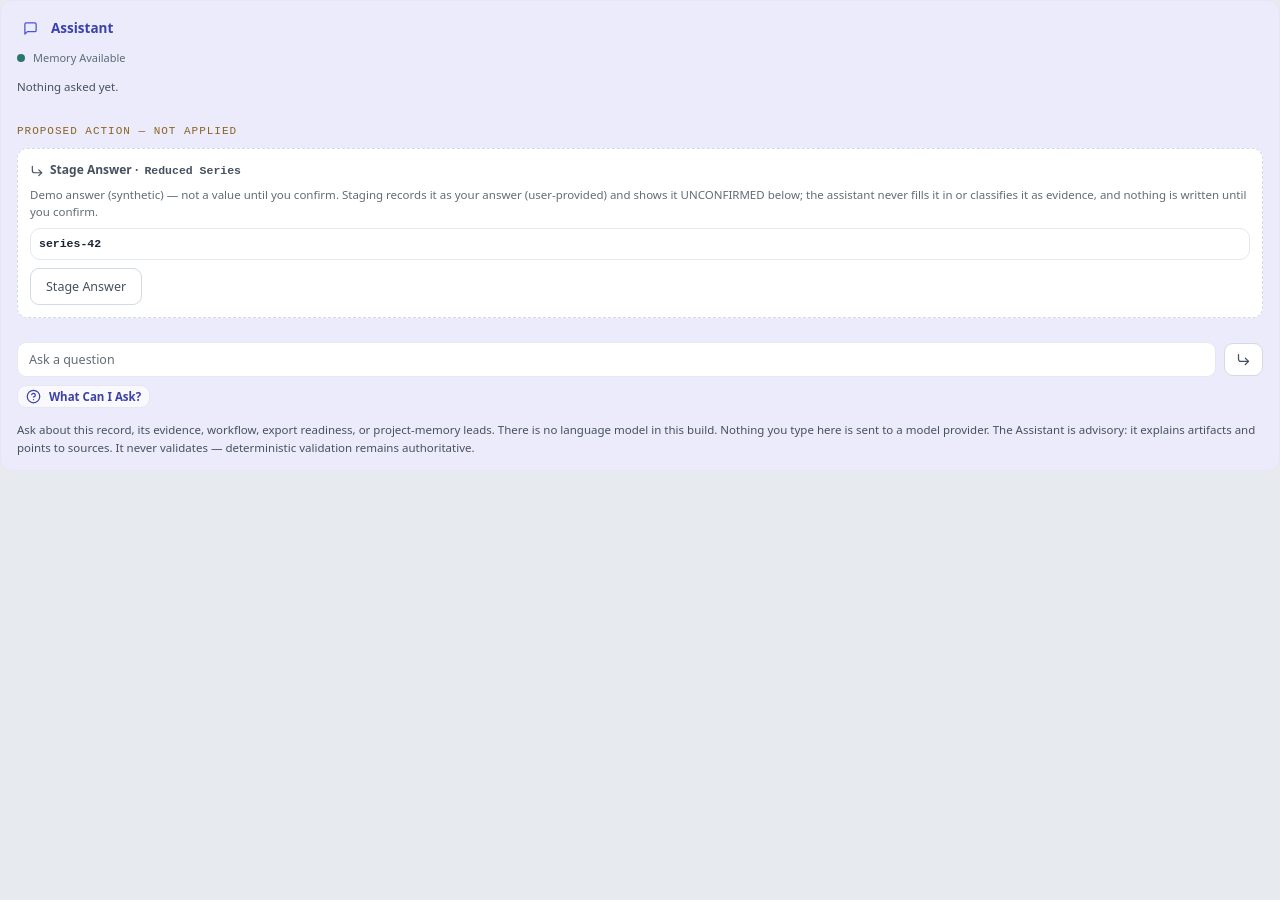
P36V S-A · Clear Conversation › a StageAnswer affordance is also cleared, and re-staging is still possible afterwards
The image size is (1280, 900).
In the field: x=616, y=360 [17,342,1216,377], type "q one"
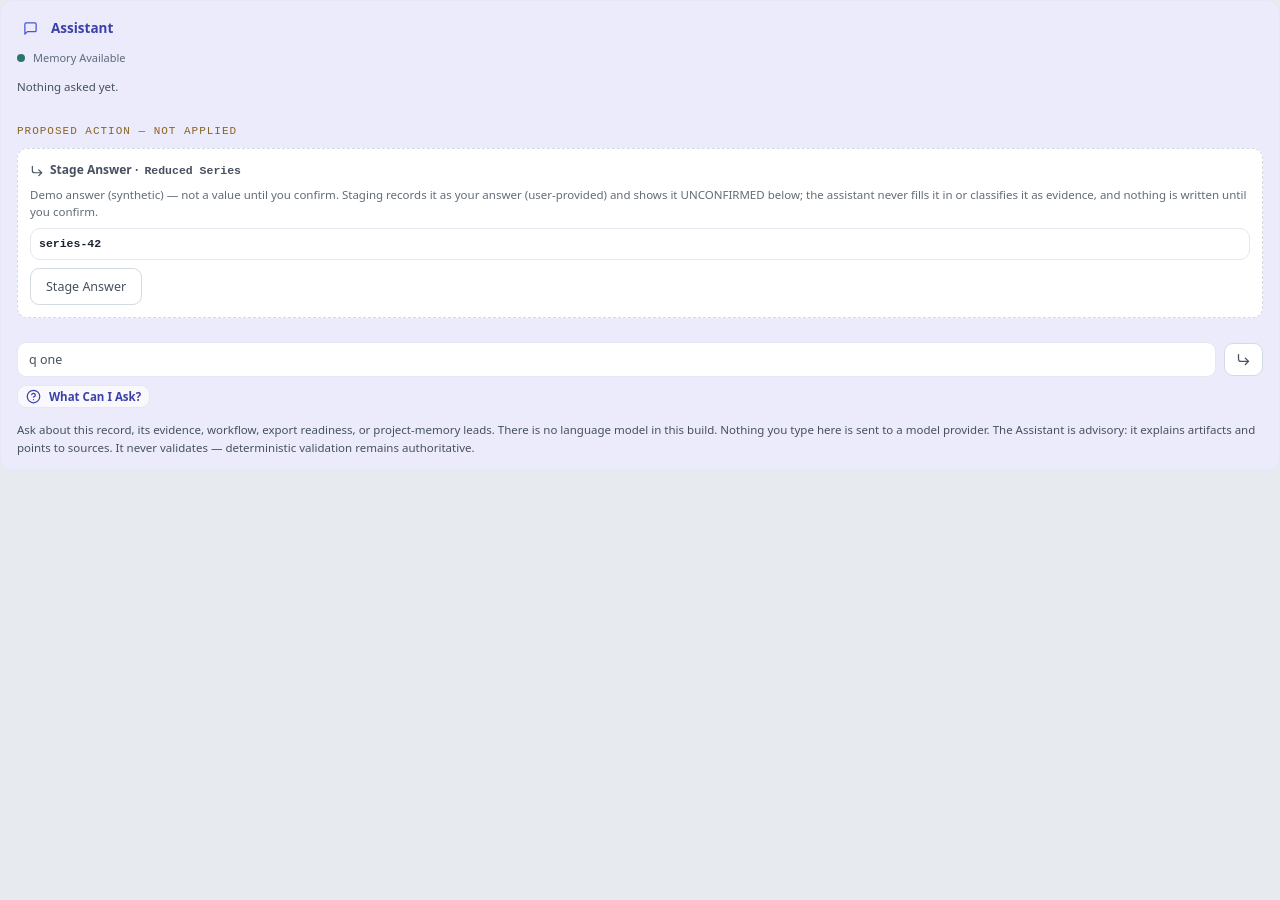
Submit the form, box [17,342,1263,377]
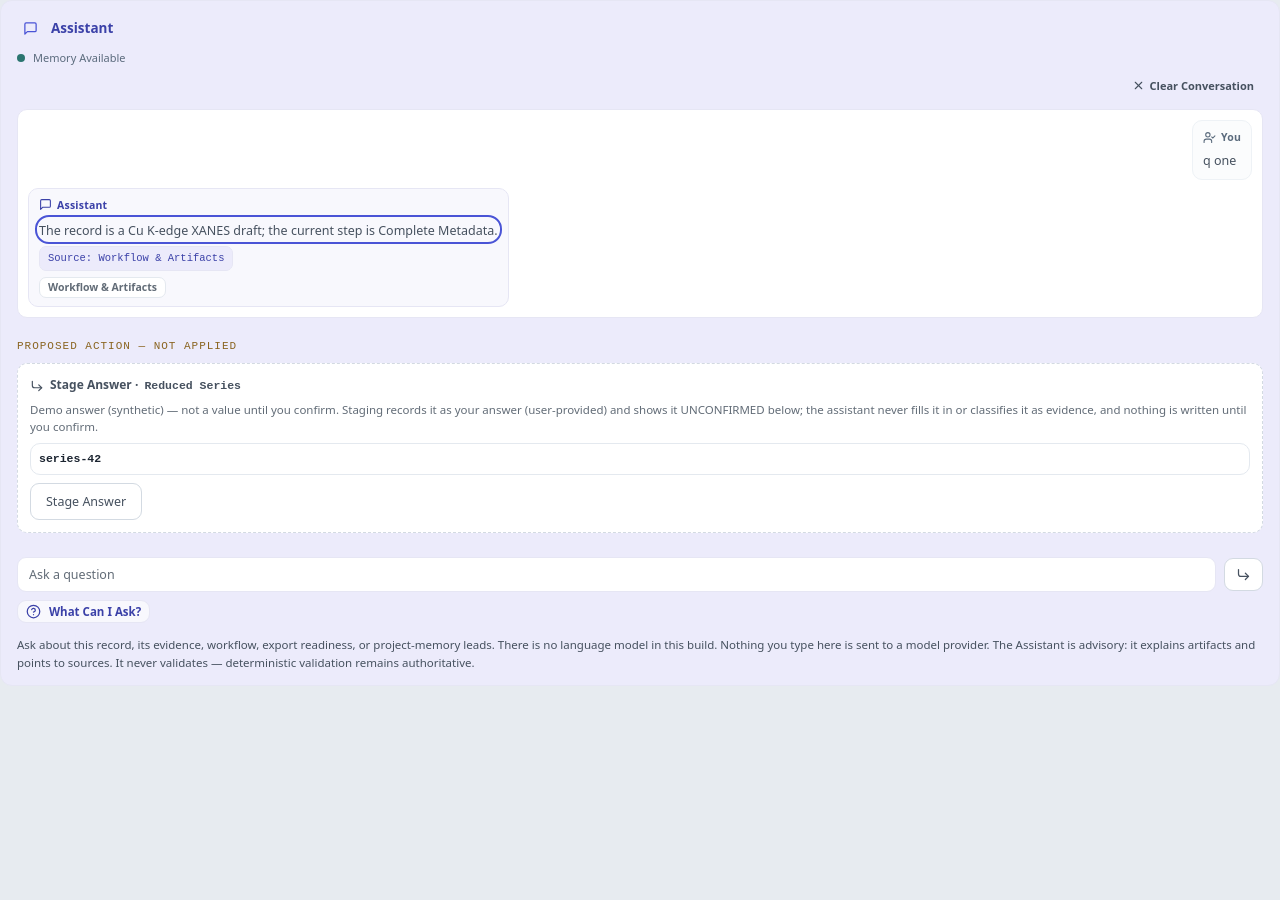
Expected: the button with class "assistant-clear" is shown, [1123,74,1263,97]
Click the button "Stage Answer": x=86, y=502 [30,483,142,520]
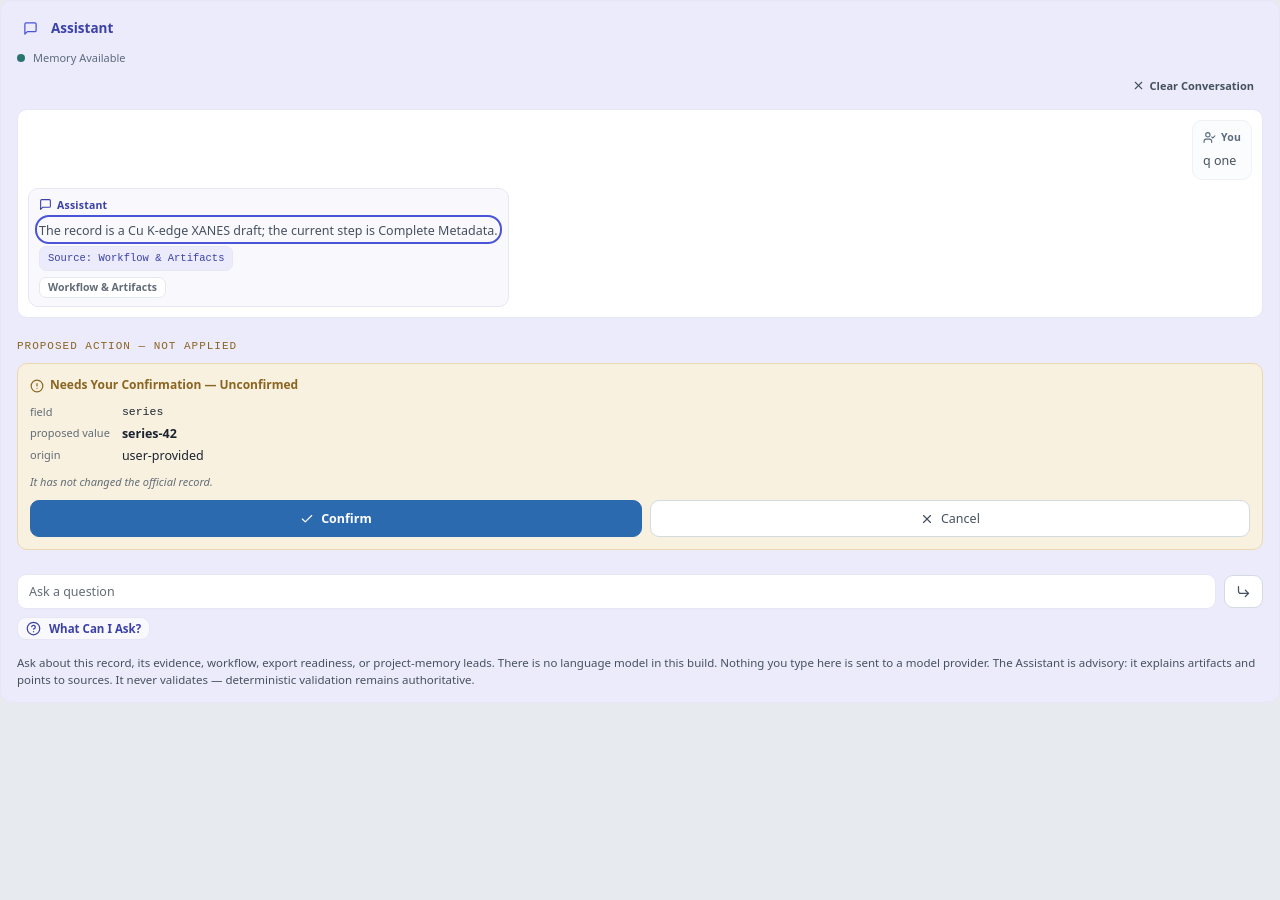
Expected: the element with class "agent-proposal" is shown, [17,363,1263,550]
Click the button "Clear Conversation": x=1193, y=86 [1123,74,1263,97]
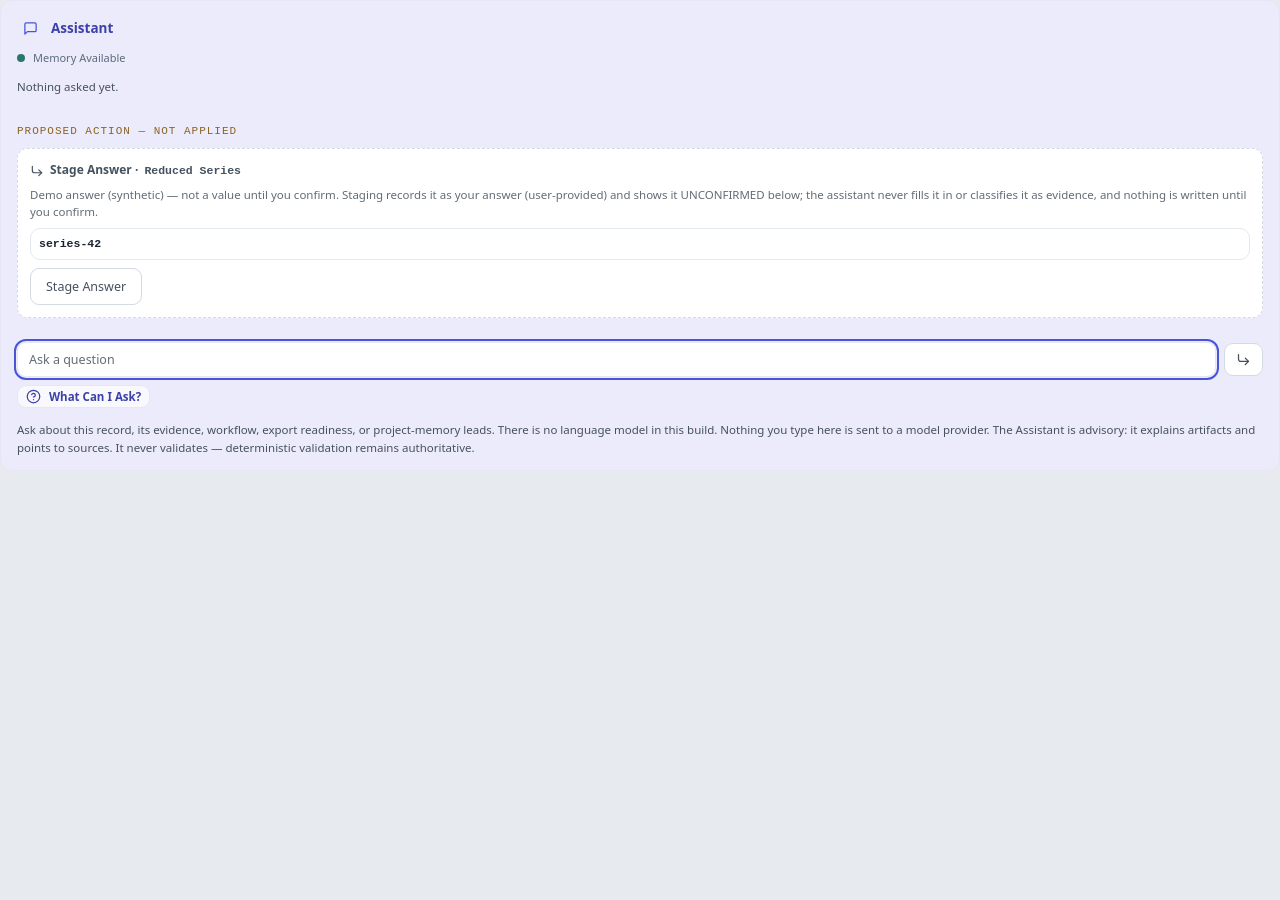
Expected: the element with class "agent-proposal" is gone
Expected: the element with class "agent-stage" is shown, [17,148,1263,318]
